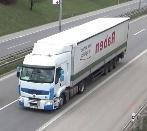truck: (16, 19, 129, 113)
